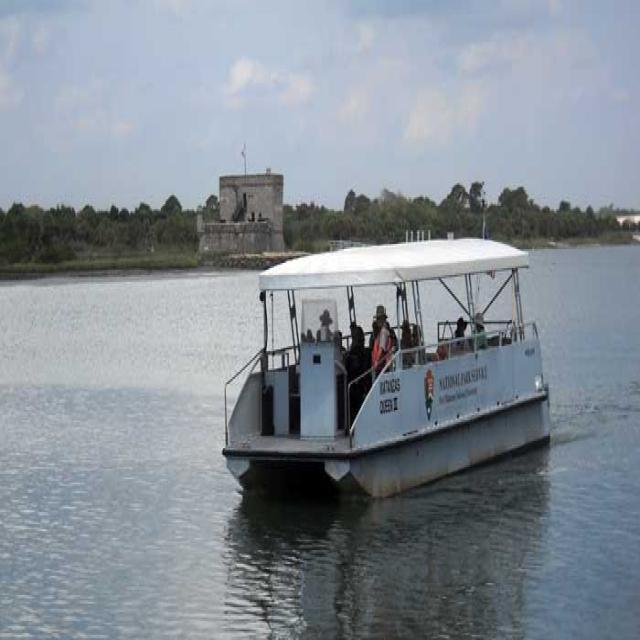houseboat: (208, 208, 556, 506)
